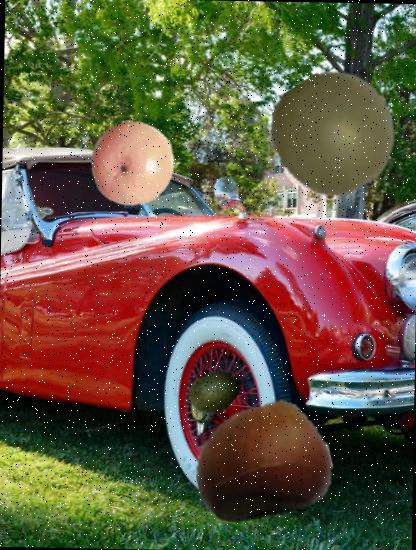Avocado: (188, 366, 243, 421)
Grape: (272, 71, 398, 197)
Grapefruit: (88, 119, 177, 208)
Nut: (193, 392, 332, 531)
